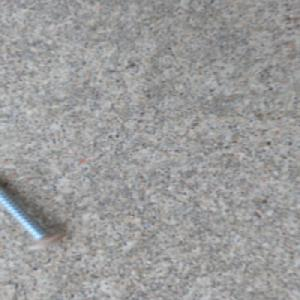Screw: (0, 180, 66, 251)
